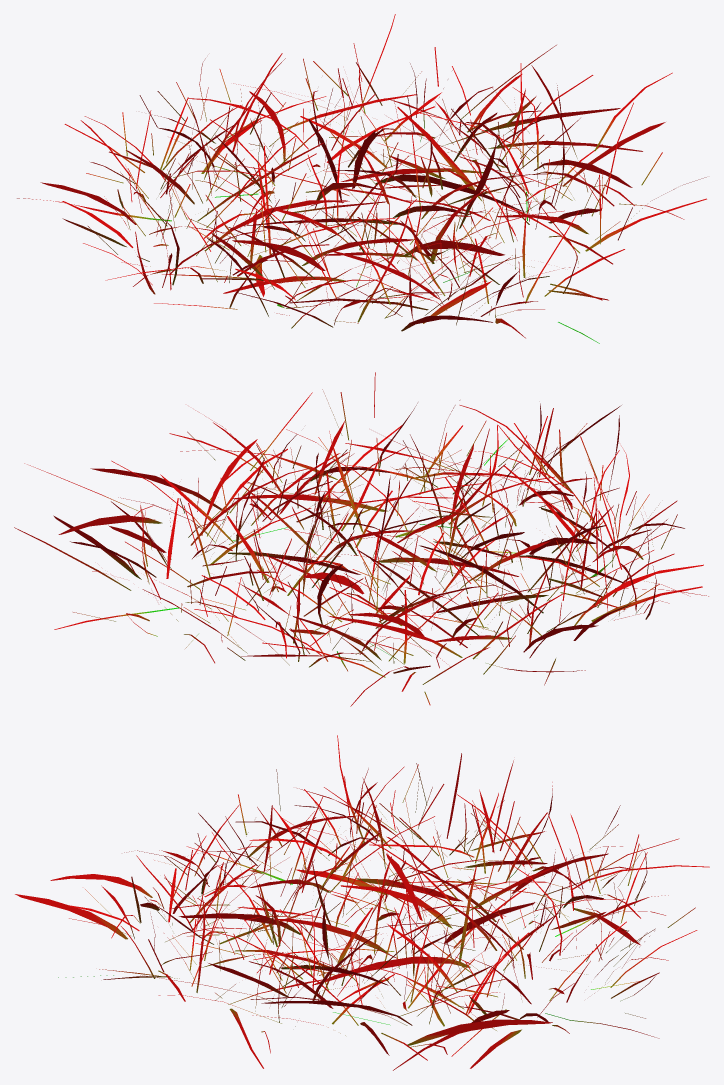
The model's file is grass1.glb.
3 renders of one model, top to bottom at view 1: azimuth 30°, elevation 25°; view 2: azimuth 150°, elevation 25°; view 3: azimuth 270°, elevation 25°, orthographic. The views are drawn at different scales.
Parts seen in each view (by area): view 1: _3y85_Var18_LOD0; view 2: _3y85_Var18_LOD0; view 3: _3y85_Var18_LOD0.
Boxes of the visible parts, x1,y1,x2,y2 form: _3y85_Var18_LOD0: (17,14,706,343); _3y85_Var18_LOD0: (14,372,708,706); _3y85_Var18_LOD0: (15,735,709,1070).
Size of the model in its own units: 0.5115 by 0.0902 by 0.5063.
